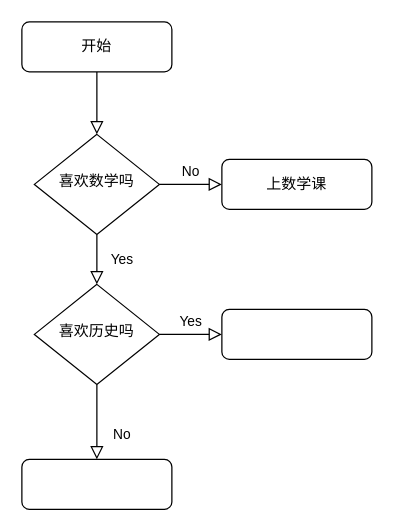
Image size: 394x531. Some labels were removed from this diagram. Here are the shapes that lost their labels. From the top down, the centre of each, then its label:
At [296,333]: "上历史课".
At [96,483]: "上自习".
